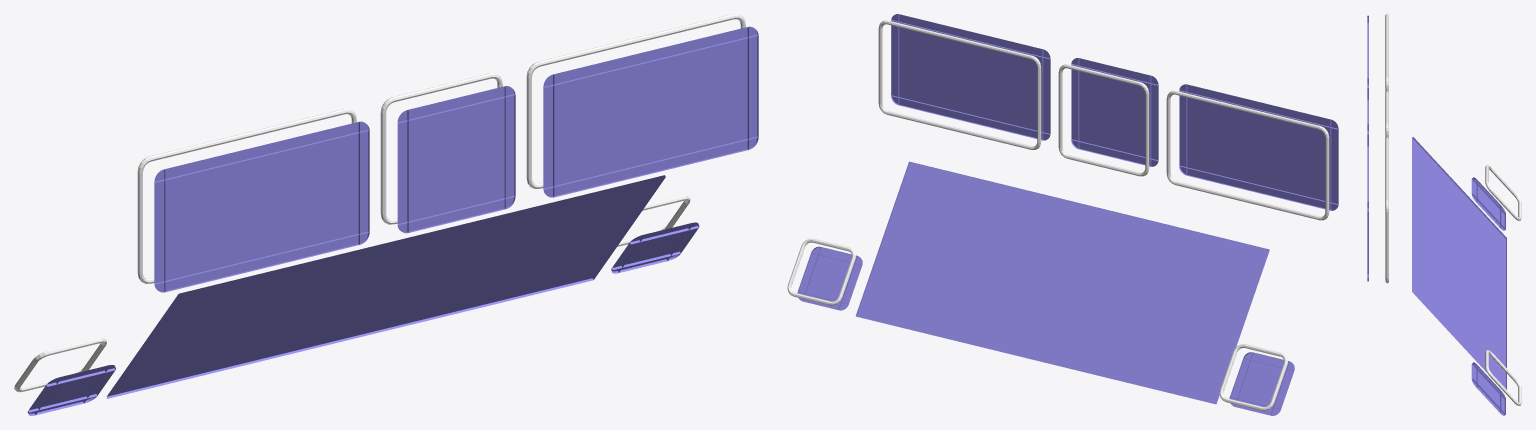
File: previewControls.glb
The picture shows the model from 3 angles, left to right: view 1: azimuth 30°, elevation 25°; view 2: azimuth 150°, elevation 25°; view 3: azimuth 270°, elevation 25°; orthographic projection. The views are drawn at different scales.
Visible parts, largest first — view 1: Panel, back_middle.001, back_middle.002, back_middle, back_t.002, back_t.001, back_b.001, back_b.002, back_r.001, back_r.002, back_r, border_t.002 (+9 smaller); view 2: Panel, back_middle.001, back_middle.002, back_middle, back_middle.005, back_middle.006, back_t.001, back_t.002, back_b.001, back_b.002, border_t.001, border_t.002 (+10 smaller); view 3: Panel, back_middle.006, back_middle.005, border_l.001, border_t.001, border_t.002.
Part boxes in pixels (left/top/right/bottom): Panel: left=106, top=175, right=665, bottom=398; back_middle.001: left=554, top=38, right=748, bottom=187; back_middle.002: left=165, top=133, right=359, bottom=281; back_middle: left=408, top=97, right=505, bottom=222; back_t.002: left=164, top=122, right=359, bottom=180; back_t.001: left=553, top=27, right=748, bottom=85; back_b.001: left=554, top=140, right=748, bottom=197; back_b.002: left=165, top=235, right=359, bottom=292; back_r.001: left=543, top=85, right=554, bottom=189; back_r.002: left=154, top=180, right=165, bottom=284; back_r: left=397, top=121, right=408, bottom=224; border_t.002: left=149, top=109, right=345, bottom=161; Panel: left=856, top=161, right=1269, bottom=404; back_middle.001: left=898, top=22, right=1042, bottom=132; back_middle.002: left=1186, top=92, right=1330, bottom=202; back_middle: left=1078, top=66, right=1150, bottom=158; back_middle.005: left=805, top=254, right=854, bottom=301; back_middle.006: left=1237, top=360, right=1286, bottom=407; back_t.001: left=898, top=14, right=1042, bottom=57; back_t.002: left=1186, top=84, right=1330, bottom=127; back_b.001: left=898, top=98, right=1042, bottom=140; back_b.002: left=1186, top=168, right=1330, bottom=210; border_t.001: left=887, top=20, right=1031, bottom=59; border_t.002: left=1175, top=91, right=1319, bottom=129; Panel: left=1412, top=137, right=1506, bottom=389; back_middle.006: left=1477, top=183, right=1501, bottom=223; back_middle.005: left=1477, top=368, right=1501, bottom=408; border_l.001: left=1385, top=211, right=1388, bottom=277; border_t.001: left=1385, top=138, right=1388, bottom=200; border_t.002: left=1385, top=15, right=1388, bottom=77.
Size of the model in its own units: 0.27 by 0.1262 by 0.0846.
